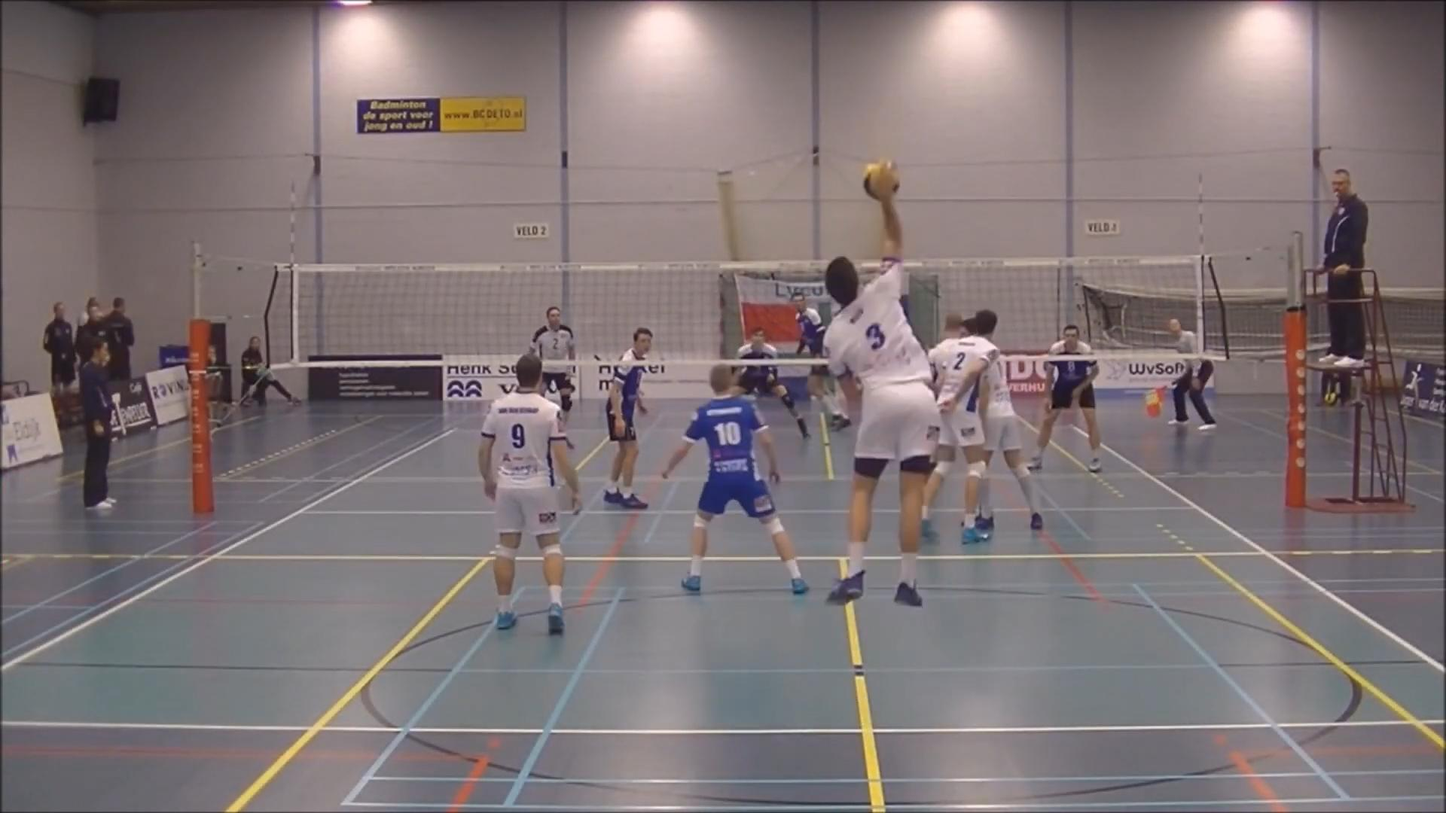attacco: (812, 177, 925, 556)
